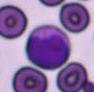L: (26, 25, 71, 70)
